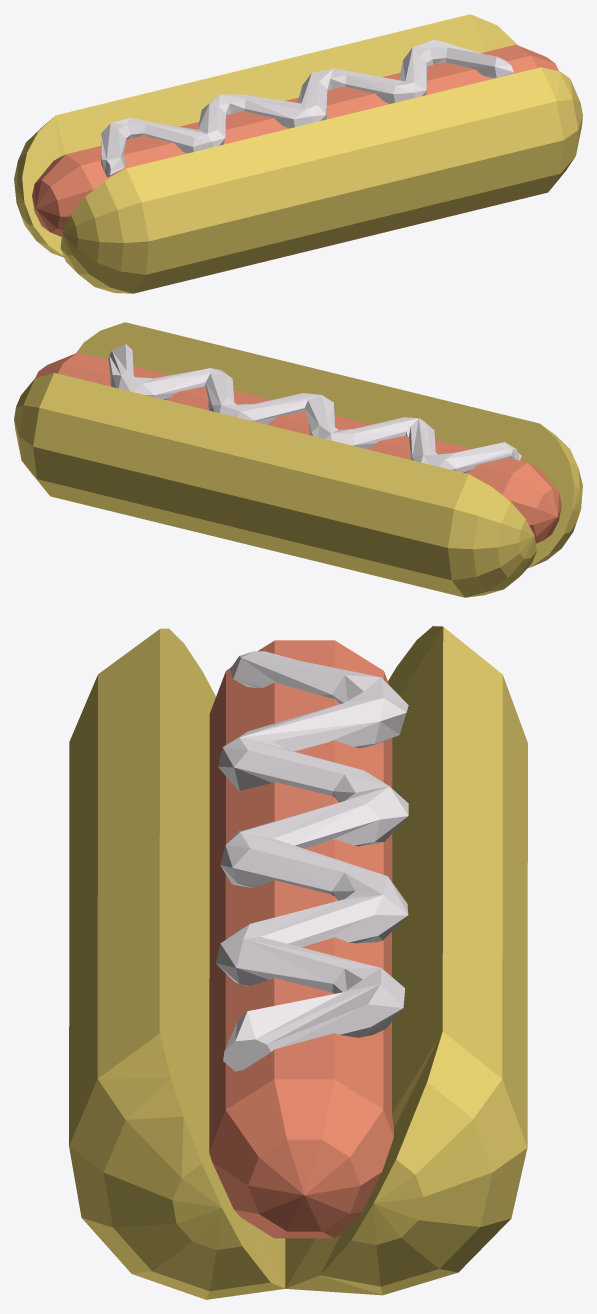
File: hotdog_prop.fbx
3 renders of one model, top to bottom at view 1: azimuth 30°, elevation 25°; view 2: azimuth 150°, elevation 25°; view 3: azimuth 270°, elevation 25°, orthographic. The views are drawn at different scales.
Parts seen in each view (by area): view 1: hotdog.001; view 2: hotdog.001; view 3: hotdog.001.
Boxes of the visible parts, <box> form: hotdog.001: <box>14,14,582,293</box>; hotdog.001: <box>14,322,582,597</box>; hotdog.001: <box>69,626,527,1299</box>.
Bounding box in the file's own units: 221 × 54.06 × 83.62.
